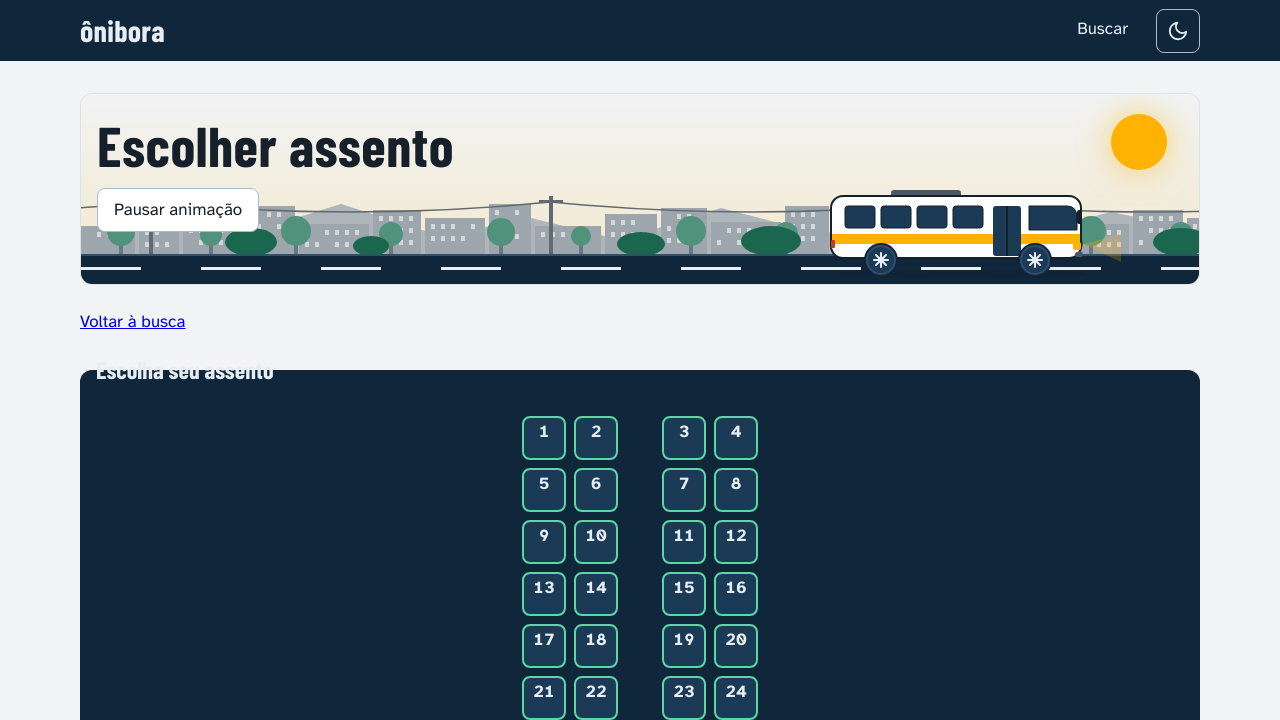
TripPage: reservar o assento › enquanto a sessão carrega, o botão fica desabilitado
Click the radio button named "Assento 7, livre" at {"x": 684, "y": 490}, box [662, 468, 706, 512]
(page scrolled)
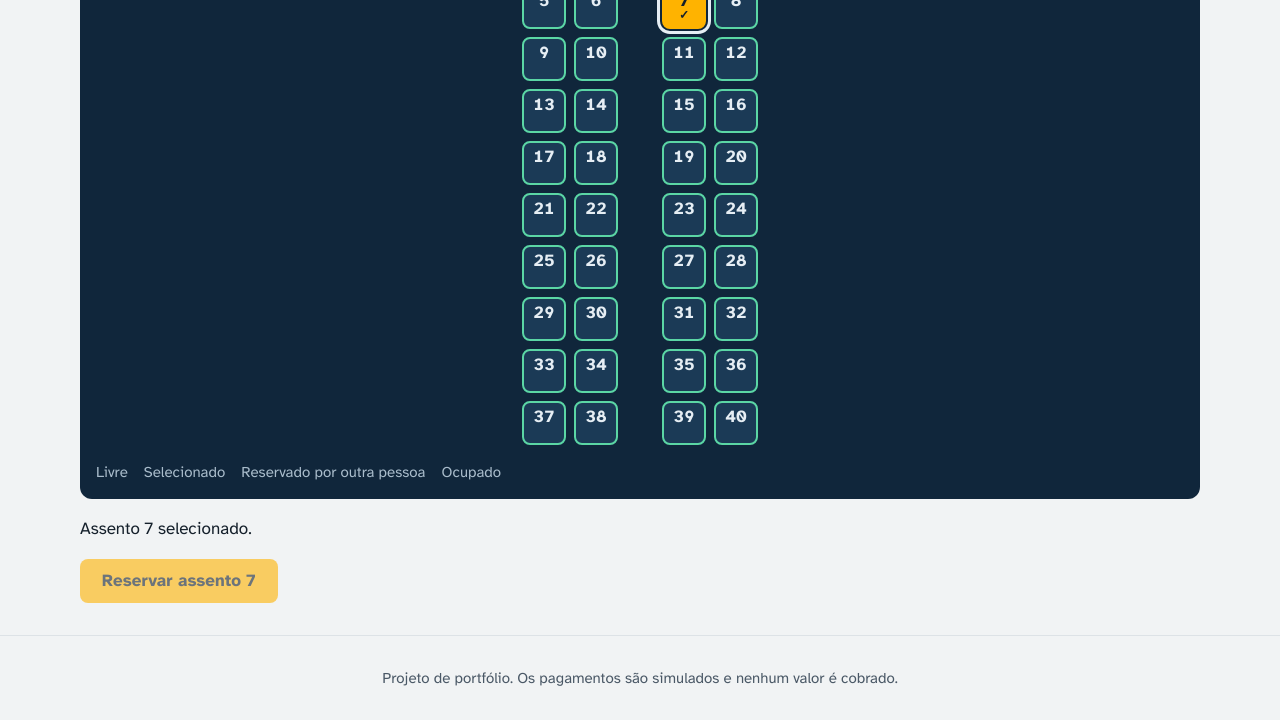
Check: the button "Reservar assento 7" is disabled, box [80, 558, 278, 602]
